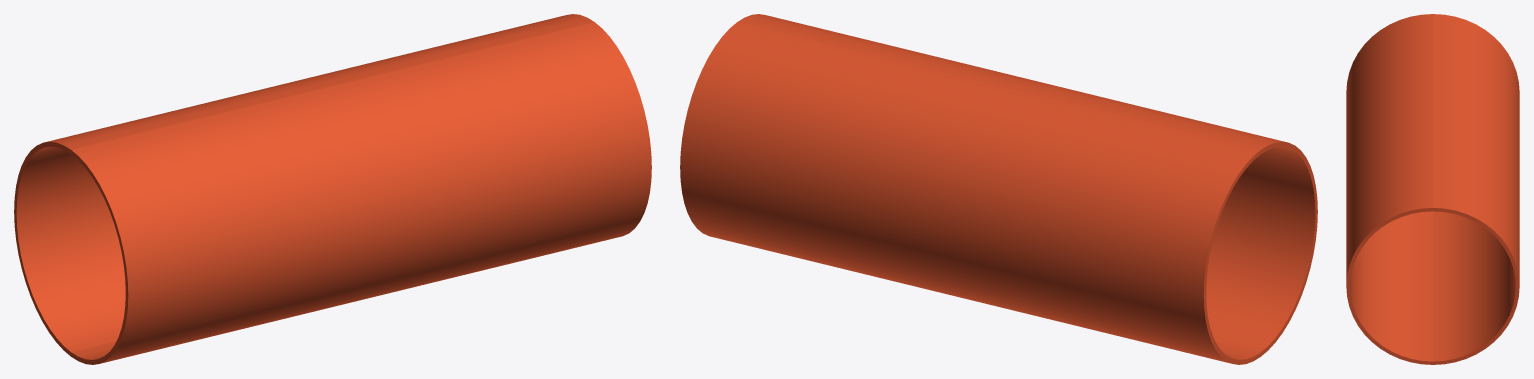
File: uv_disinfection_system_pressure.glb
3 renders of one model, left to right at view 1: azimuth 30°, elevation 25°; view 2: azimuth 150°, elevation 25°; view 3: azimuth 270°, elevation 25°, orthographic. The views are drawn at different scales.
Parts seen in each view (by area): view 1: pressure__front, pressure__back; view 2: pressure__back, pressure__front; view 3: pressure__back, pressure__front.
Part boxes in pixels (x1,y1,x2,y2): pressure__front: [71, 22, 651, 364]; pressure__back: [14, 14, 594, 356]; pressure__back: [680, 22, 1260, 364]; pressure__front: [737, 14, 1317, 356]; pressure__back: [1433, 14, 1519, 364]; pressure__front: [1346, 14, 1432, 364].
Bounding box in the file's own units: 1.8 × 0.68 × 0.68.
